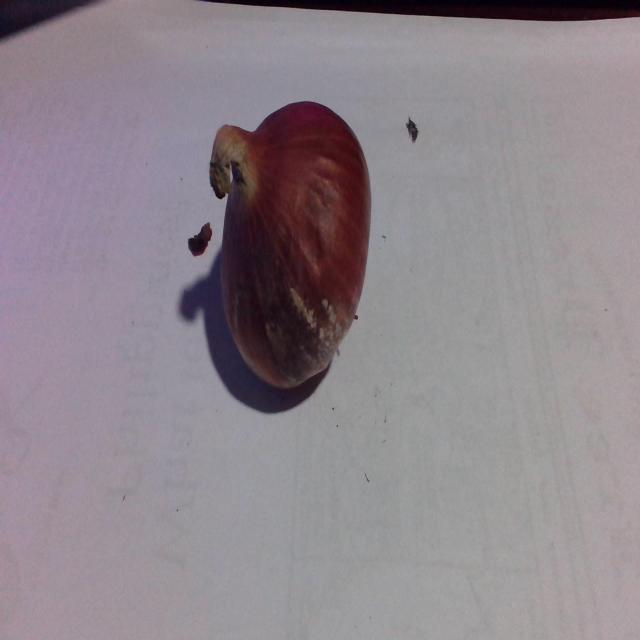onion: (216, 94, 375, 395)
